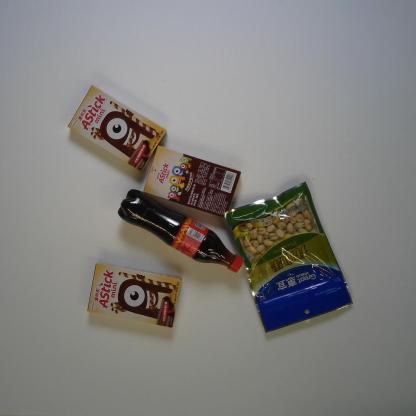Dessert: (67, 83, 169, 175), (138, 142, 242, 217), (85, 263, 183, 332)
Dried Fruit: (219, 180, 356, 334)
Drink: (115, 188, 246, 274)
